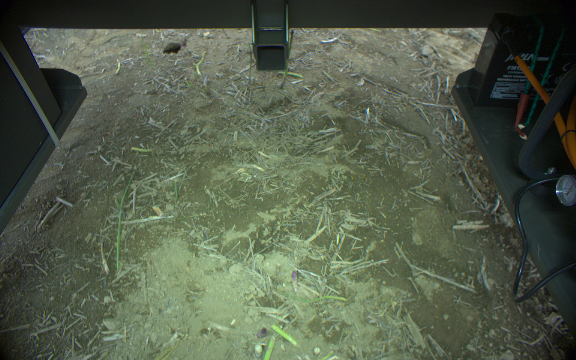aspa: (279, 29, 295, 90), (269, 323, 298, 347), (244, 43, 254, 87), (262, 335, 278, 360)
